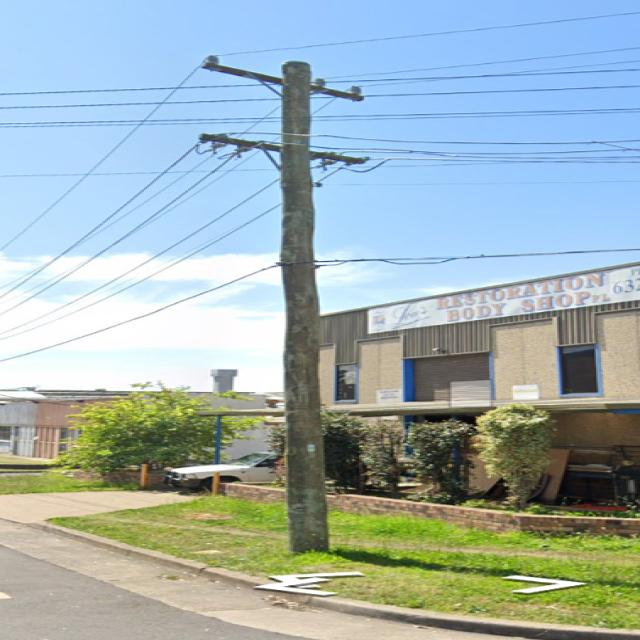HV-transmission: (198, 55, 364, 102)
crossarm: (198, 62, 363, 102), (197, 132, 367, 166)
timber-pole: (283, 59, 328, 551)
